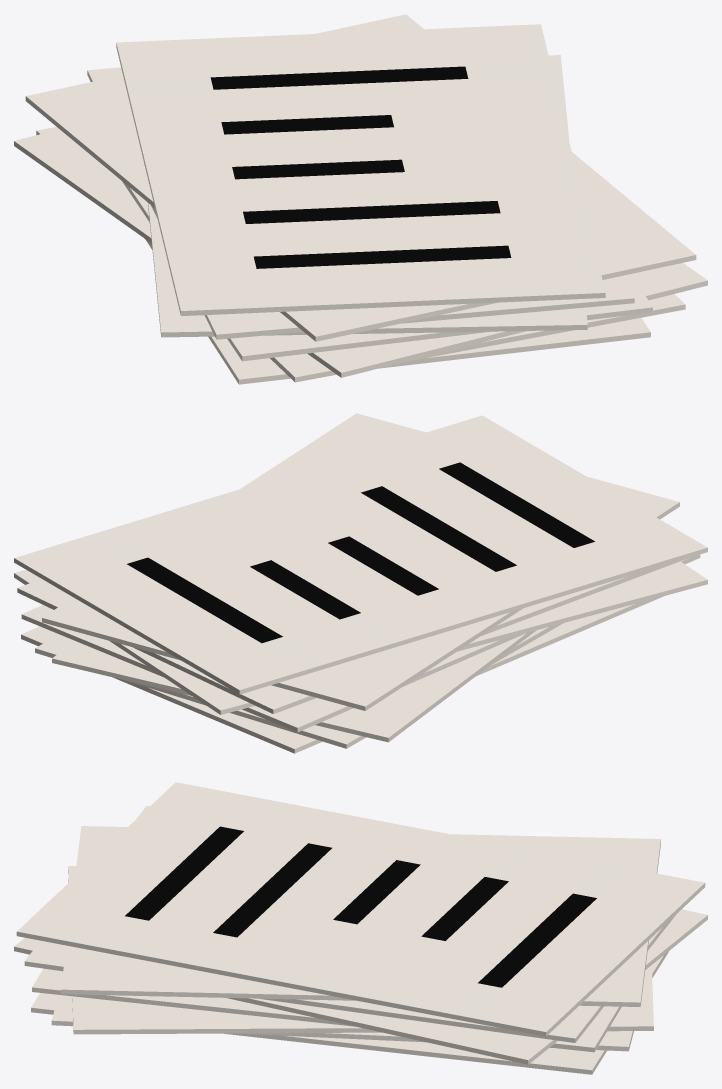
File: PapersShort.fbx
3 views of the same model, one above another, from view 1: azimuth 30°, elevation 25°; view 2: azimuth 150°, elevation 25°; view 3: azimuth 270°, elevation 25° (orthographic). The views are drawn at different scales.
Visible parts, largest first — view 1: PapersShort; view 2: PapersShort; view 3: PapersShort.
Boxes of the visible parts, bbox=[...] form: PapersShort: bbox=[14, 14, 707, 384]; PapersShort: bbox=[14, 413, 707, 753]; PapersShort: bbox=[14, 782, 707, 1074].
Bounding box in the file's own units: 90.95 × 9.37 × 103.
